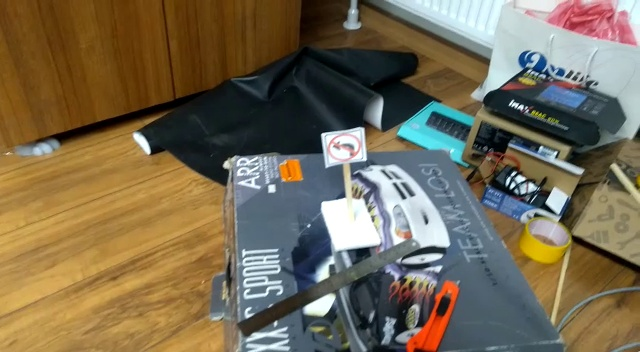sola_donulmez: (323, 131, 365, 163)
